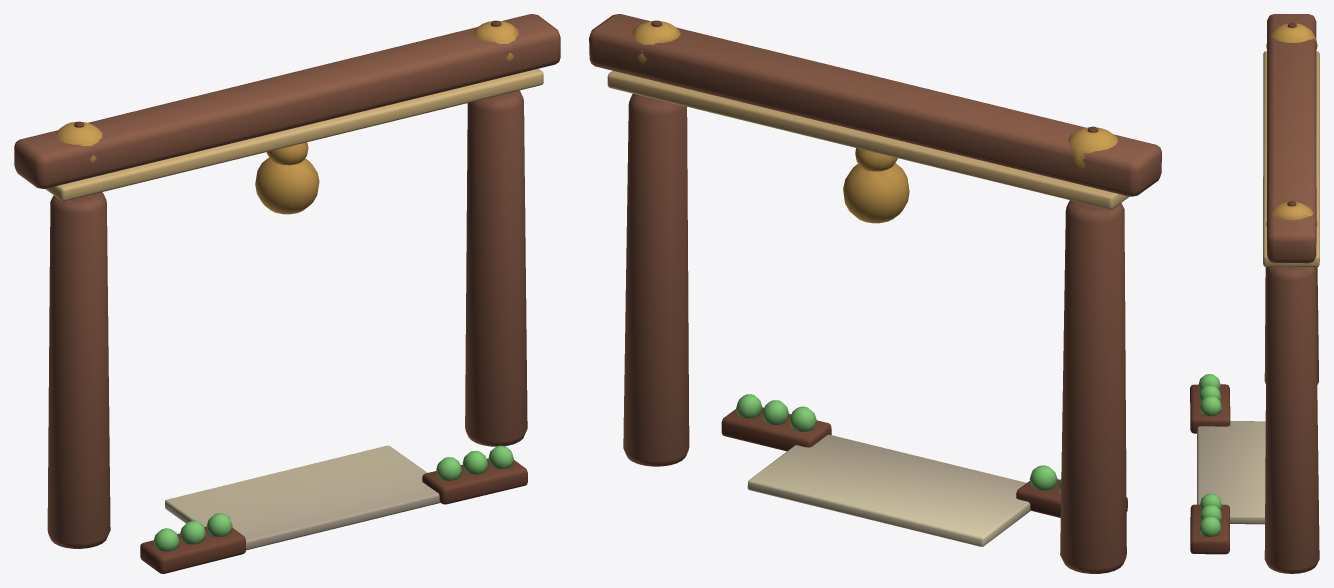
The picture shows the model from 3 angles, left to right: view 1: azimuth 30°, elevation 25°; view 2: azimuth 150°, elevation 25°; view 3: azimuth 270°, elevation 25°; orthographic projection. The views are drawn at different scales.
Parts seen in each view (by area): view 1: gate_f0aba5ee; view 2: gate_f0aba5ee; view 3: gate_f0aba5ee.
Boxes of the visible parts, x1,y1,x2,y2 form: gate_f0aba5ee: [14, 14, 560, 573]; gate_f0aba5ee: [589, 14, 1161, 573]; gate_f0aba5ee: [1190, 14, 1319, 573].
Bounding box in the file's own units: 5.6 × 4.24 × 1.37.
